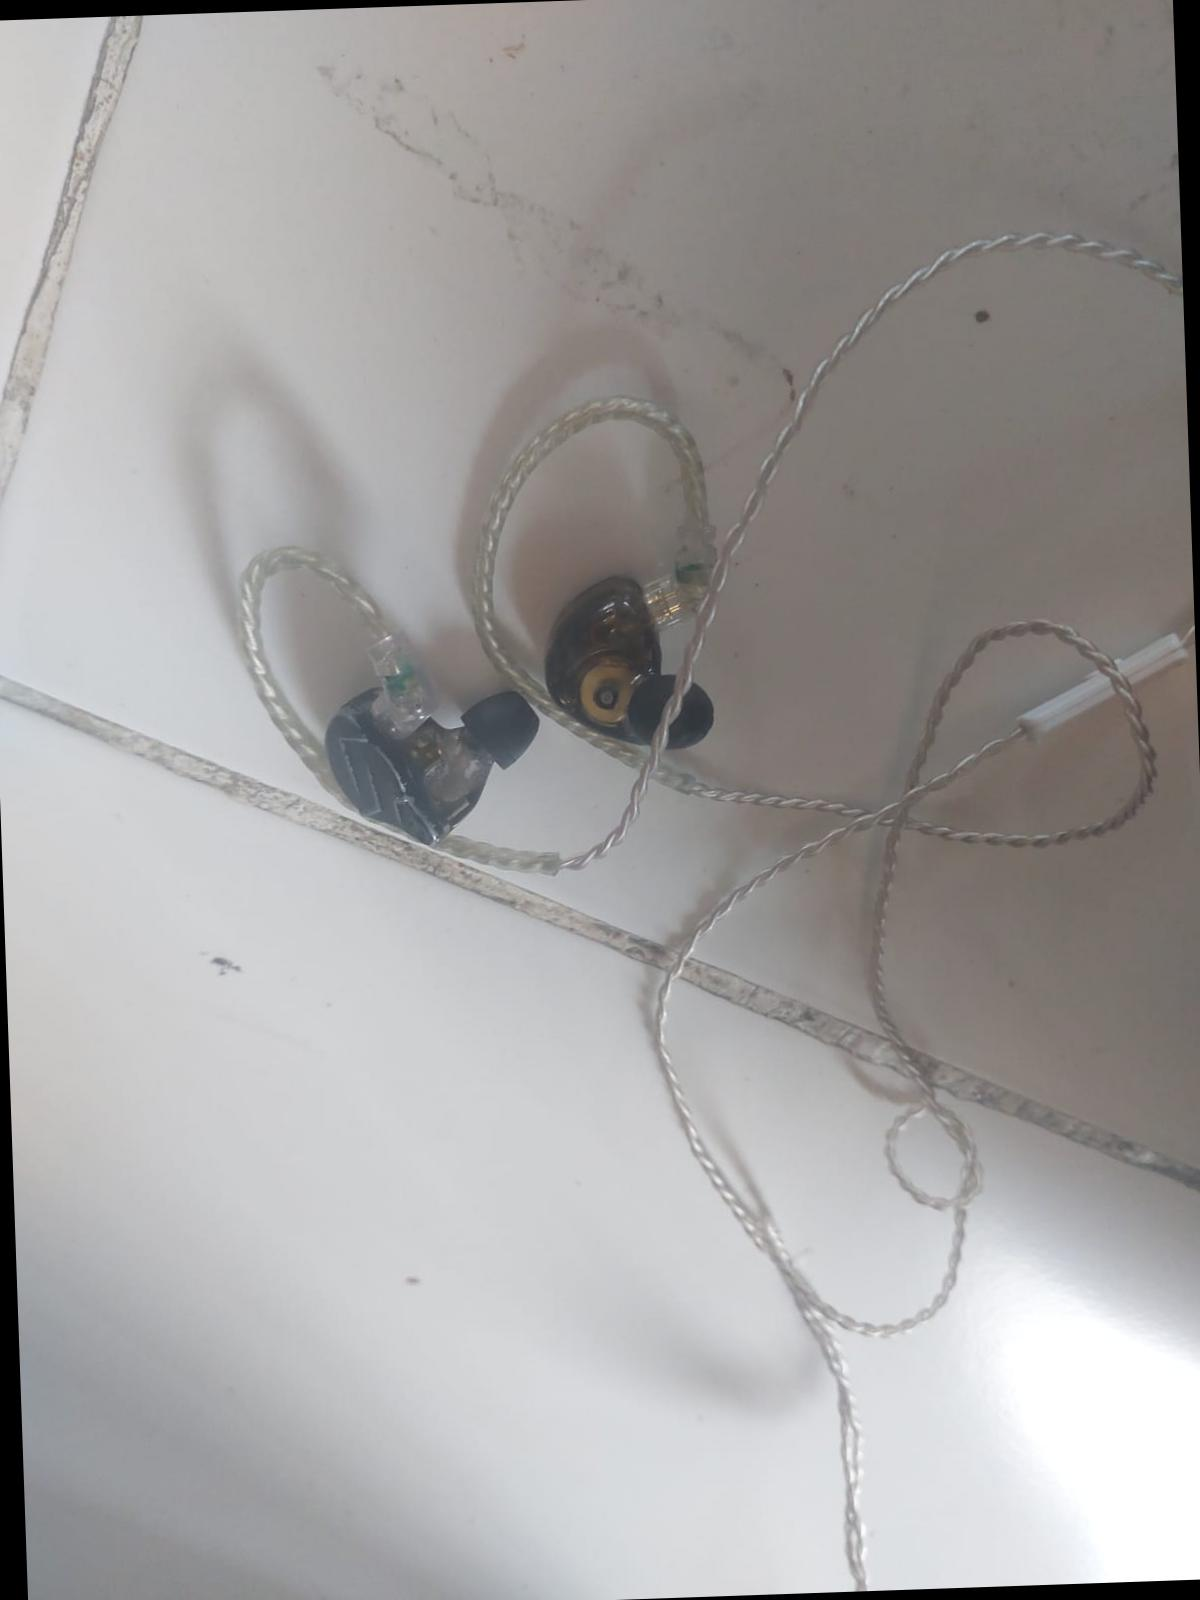Earphone: (521, 540, 749, 811), (303, 645, 567, 853)
